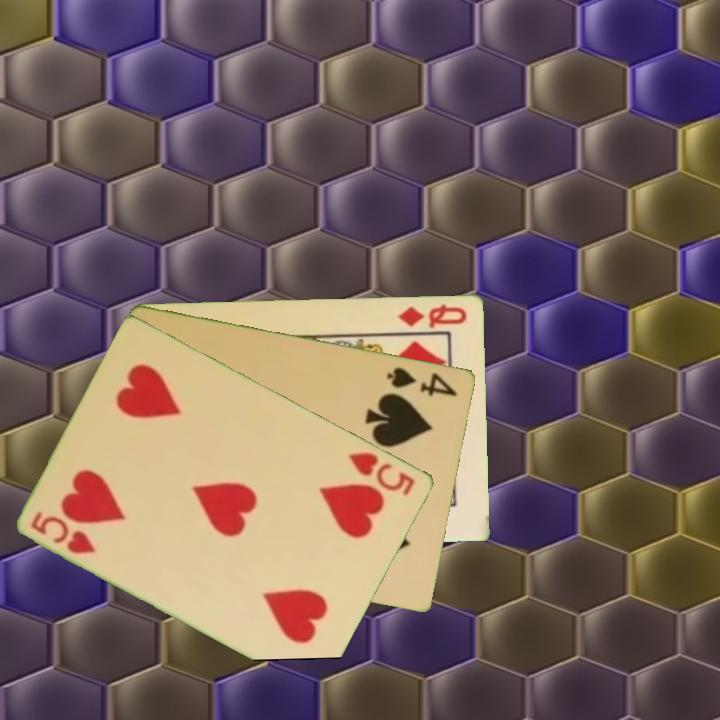4s: (383, 363, 461, 399)
5h: (345, 448, 419, 499), (27, 507, 100, 557)
Qd: (395, 300, 470, 330)
